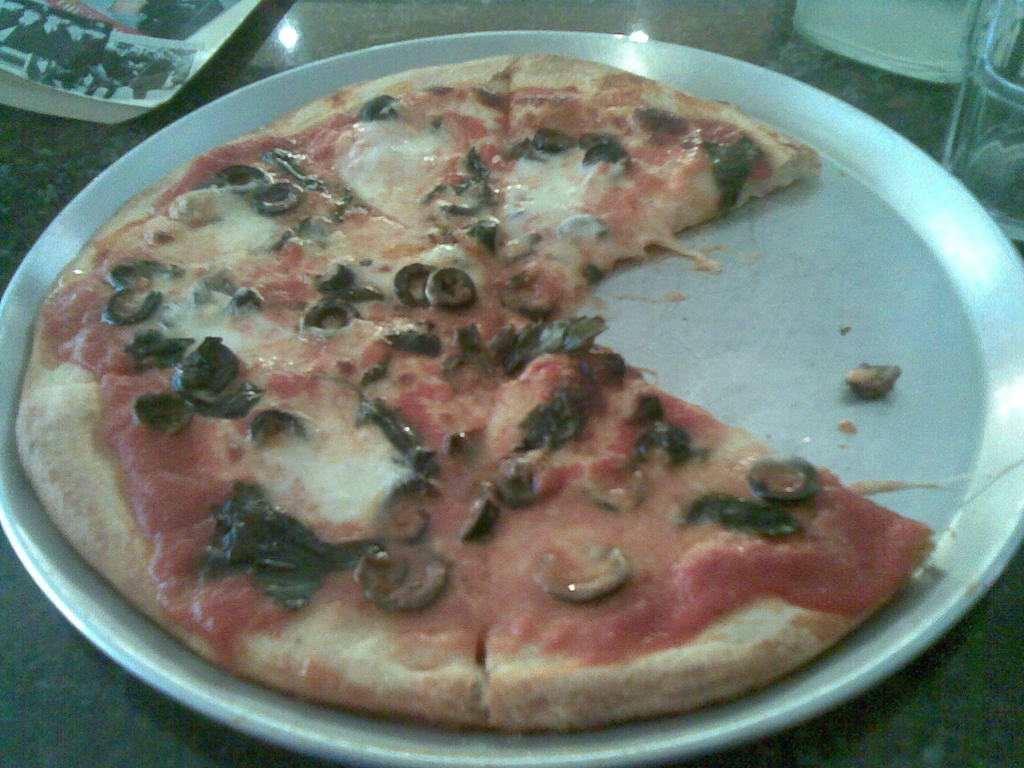Pizza: (14, 40, 924, 718)
